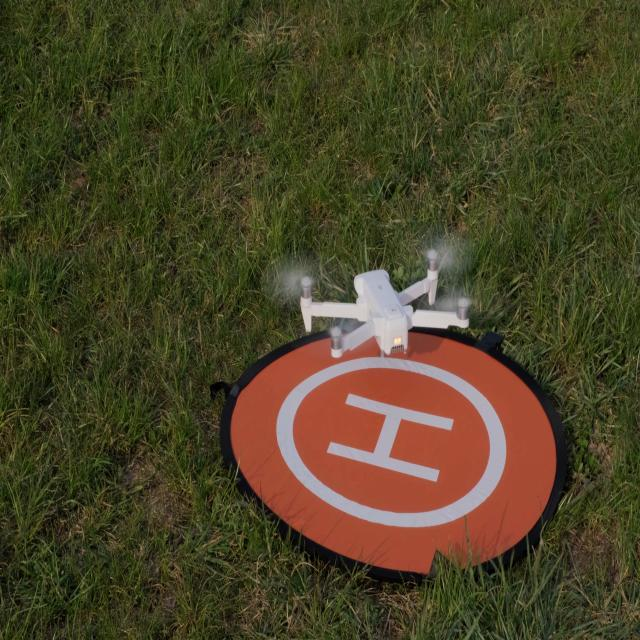drone: (299, 247, 471, 359)
